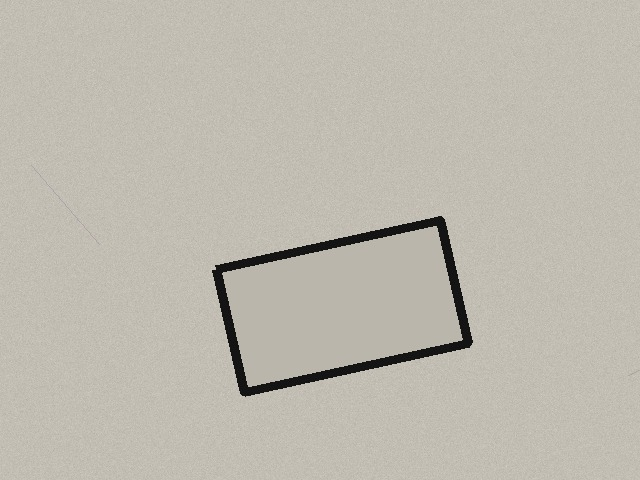parking_area: (216, 220, 468, 392)
